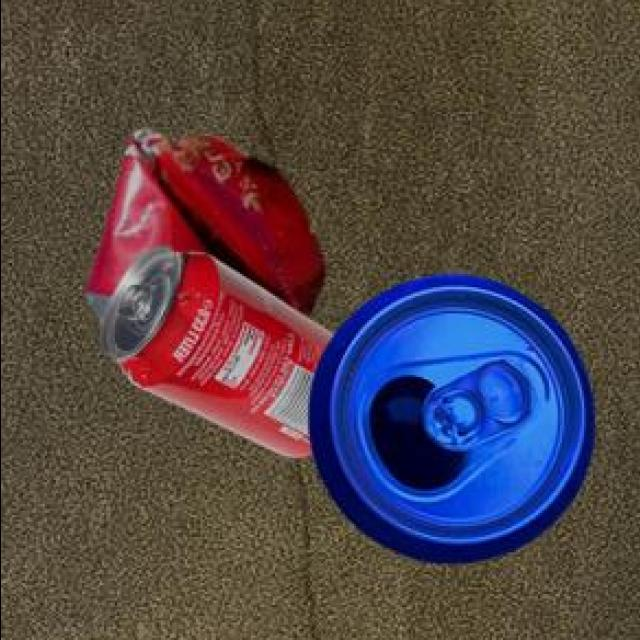logam: (312, 277, 595, 567), (104, 249, 336, 461), (89, 133, 328, 325)
